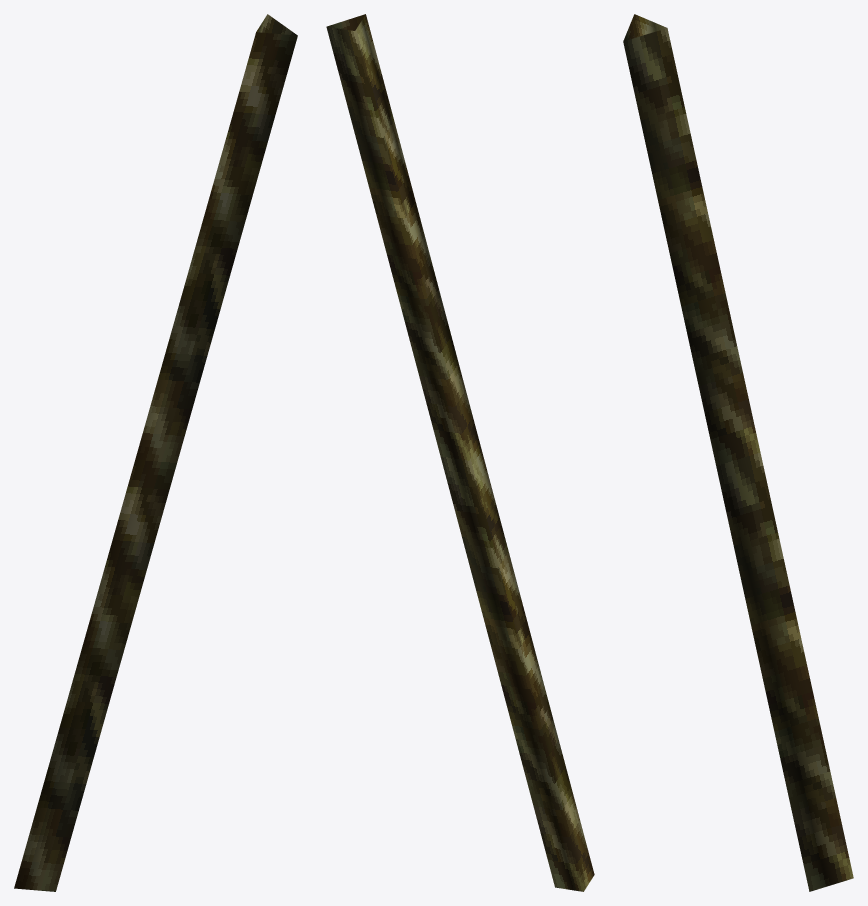
File: OVERHILL_A_01_ROPE_LINE_11.fbx
The picture shows the model from 3 angles, left to right: view 1: azimuth 30°, elevation 25°; view 2: azimuth 210°, elevation 25°; view 3: azimuth 270°, elevation 25°; orthographic projection. The views are drawn at different scales.
Visible parts, largest first — view 1: OVERHILL_A_01_ROPE_LINE_11; view 2: OVERHILL_A_01_ROPE_LINE_11; view 3: OVERHILL_A_01_ROPE_LINE_11.
Part boxes in pixels (left/top/right/bottom): OVERHILL_A_01_ROPE_LINE_11: left=14, top=14, right=297, bottom=891; OVERHILL_A_01_ROPE_LINE_11: left=326, top=14, right=594, bottom=891; OVERHILL_A_01_ROPE_LINE_11: left=623, top=14, right=853, bottom=891.
Bounding box in the file's own units: 2332 × 10462 × 2332.
Materials: 1 (1 with a texture image).
